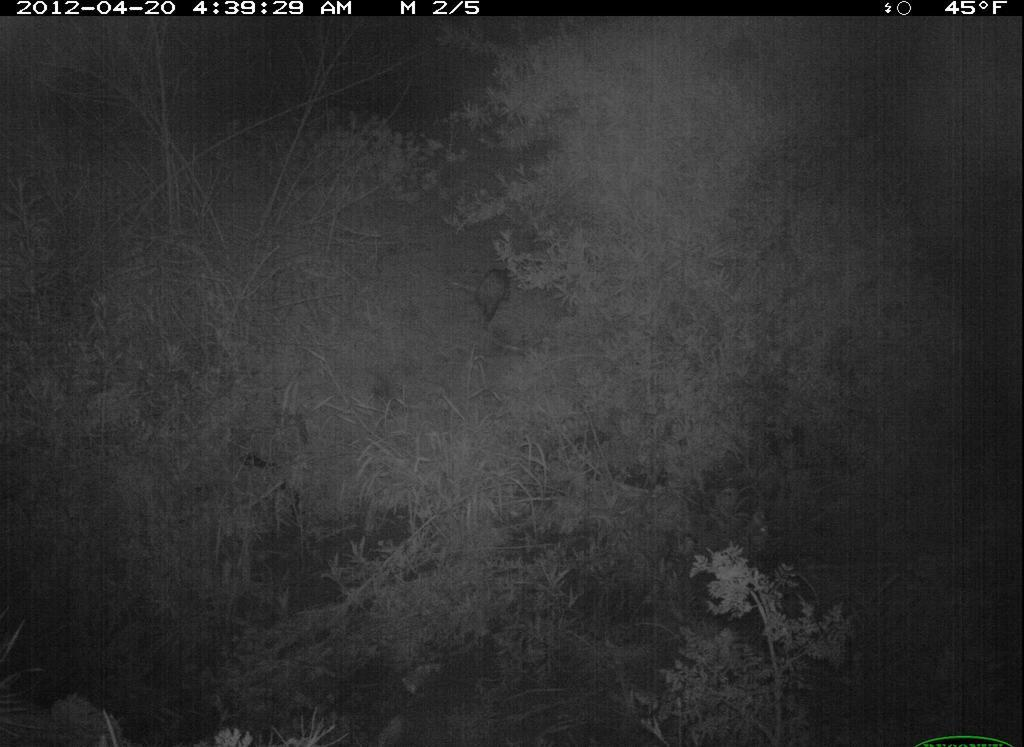opossum: (469, 255, 525, 328)
